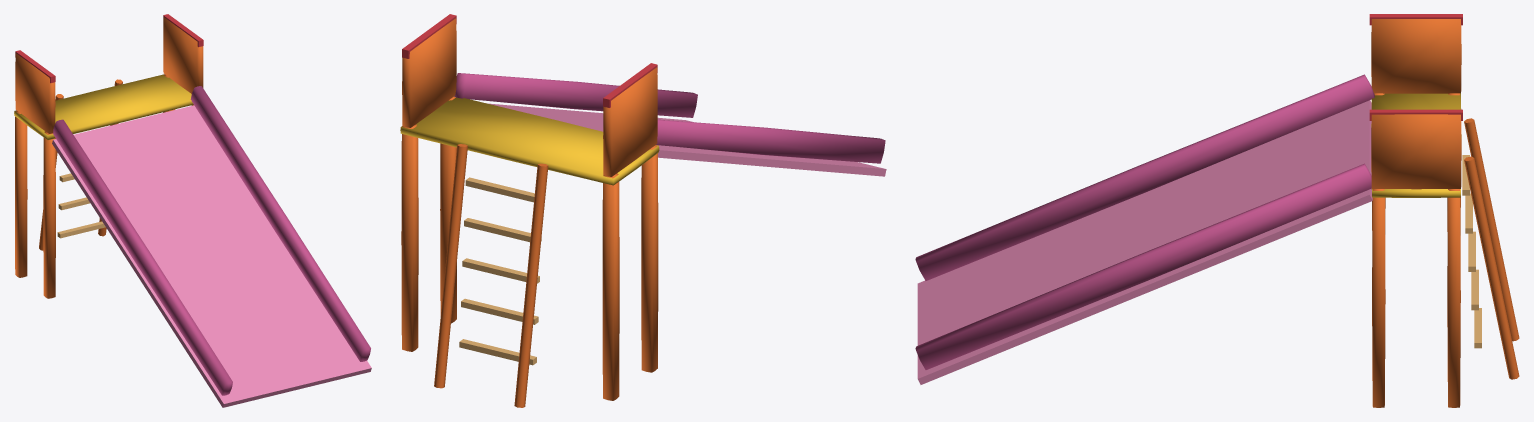
The model's file is slide_play.glb.
The picture shows the model from 3 angles, left to right: view 1: azimuth 30°, elevation 25°; view 2: azimuth 150°, elevation 25°; view 3: azimuth 270°, elevation 25°; orthographic projection. The views are drawn at different scales.
Parts seen in each view (by area): view 1: root; view 2: root; view 3: root.
Boxes of the visible parts, x1=… form: root: x1=14, y1=14, x2=371, y2=407; root: x1=400, y1=14, x2=886, y2=407; root: x1=915, y1=14, x2=1519, y2=407.
Size of the model in its own units: 1.55 by 2.1 by 3.89.
